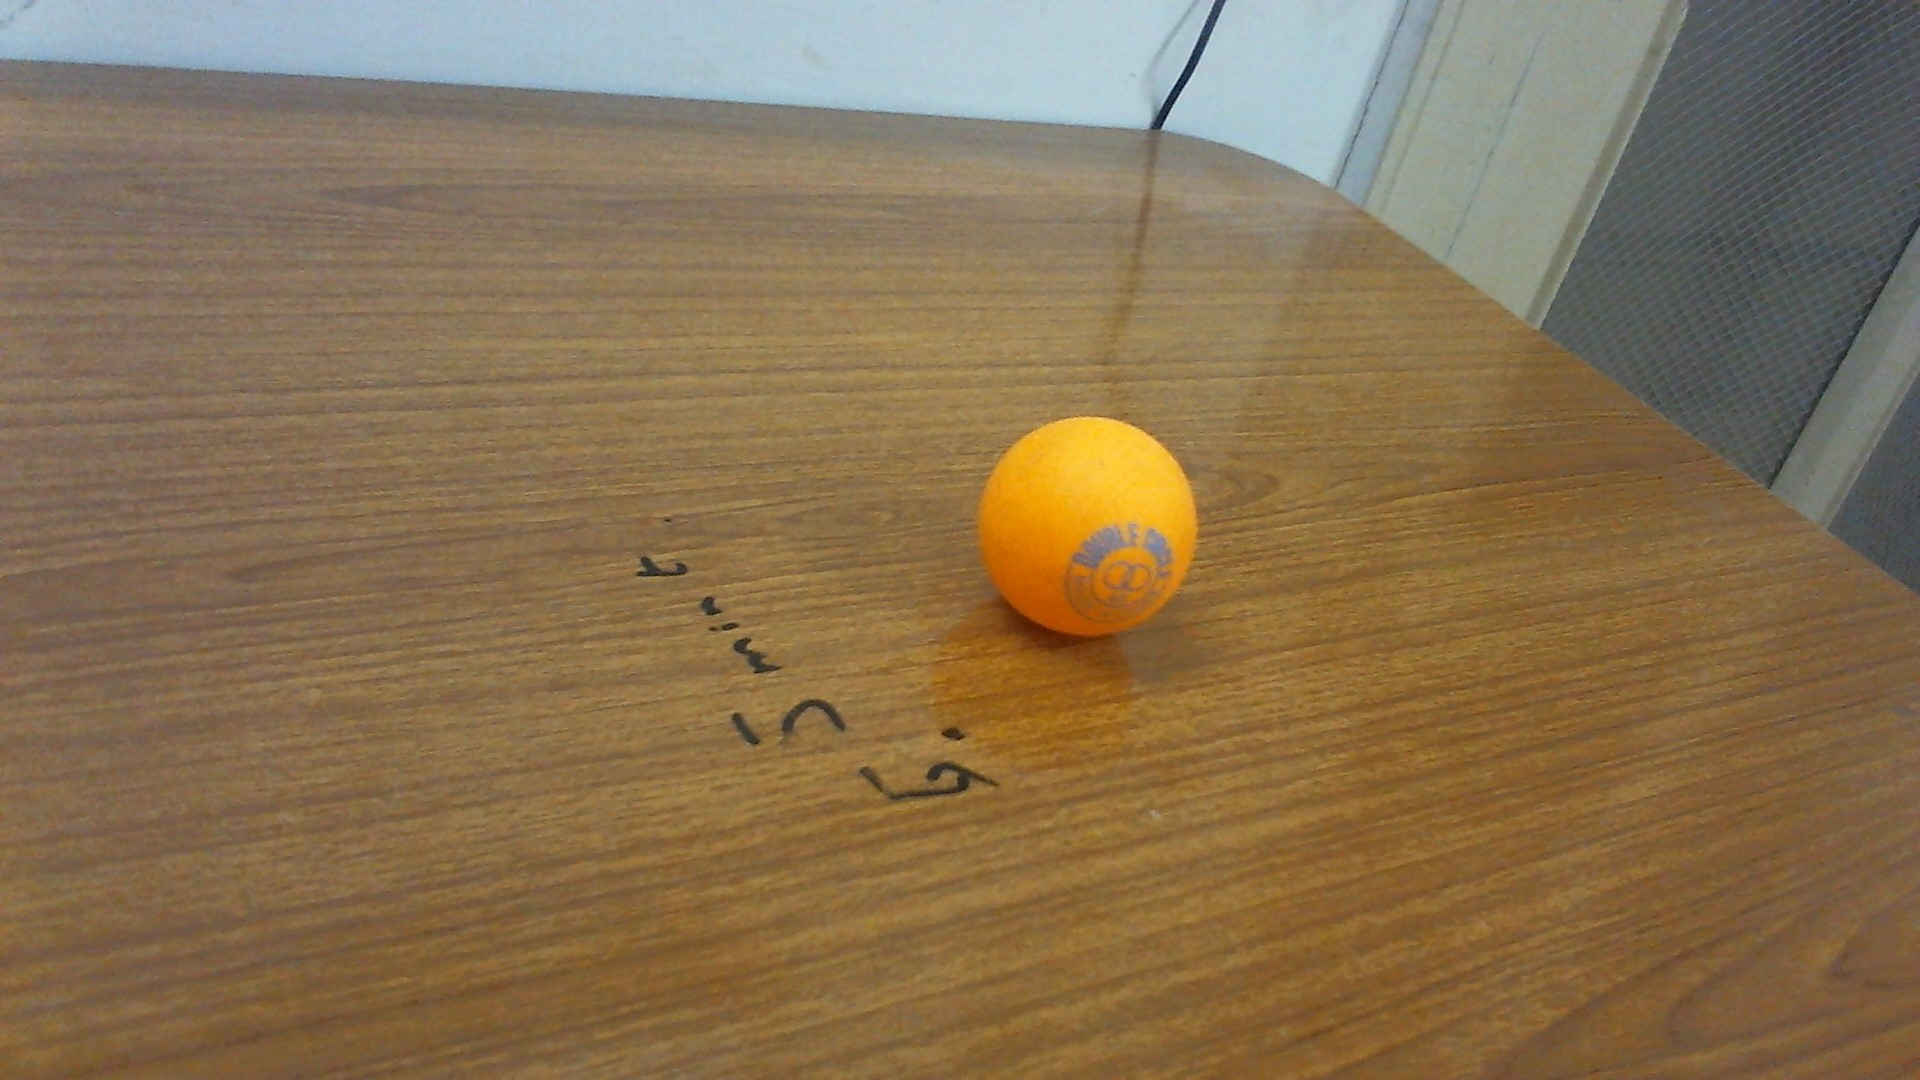ball: (973, 413, 1200, 640)
